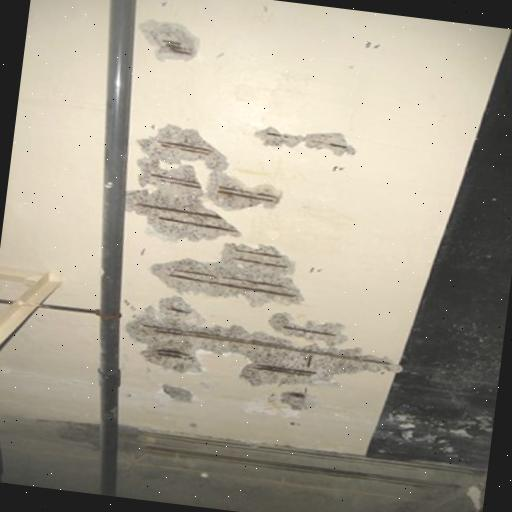spalling: (125, 294, 396, 389), (125, 122, 282, 242), (152, 243, 302, 309), (253, 126, 356, 161), (142, 20, 203, 67), (267, 314, 345, 343)
